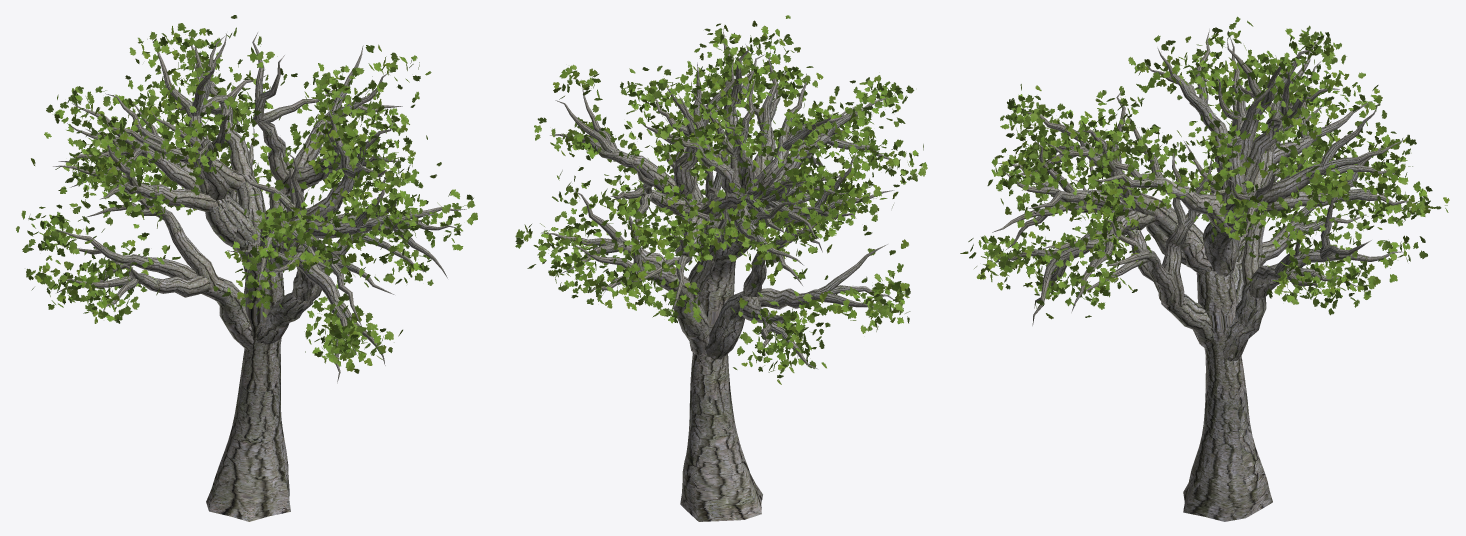
3 views of the same model, side by side, from view 1: azimuth 30°, elevation 25°; view 2: azimuth 150°, elevation 25°; view 3: azimuth 270°, elevation 25° (orthographic). The views are drawn at different scales.
Visible parts, largest first — view 1: Oak foliage cards, Oak_EasyTree_V017_Proof; view 2: Oak foliage cards, Oak_EasyTree_V017_Proof; view 3: Oak foliage cards, Oak_EasyTree_V017_Proof.
Boxes of the visible parts, x1,y1,x2,y2 form: Oak foliage cards: (16, 15, 477, 373); Oak_EasyTree_V017_Proof: (53, 32, 466, 521); Oak foliage cards: (515, 15, 927, 384); Oak_EasyTree_V017_Proof: (541, 28, 895, 521); Oak foliage cards: (960, 16, 1449, 319); Oak_EasyTree_V017_Proof: (992, 29, 1416, 521).
Bounding box in the file's own units: 6.92 × 7.76 × 7.61.
Materials: 2 (2 with a texture image).
